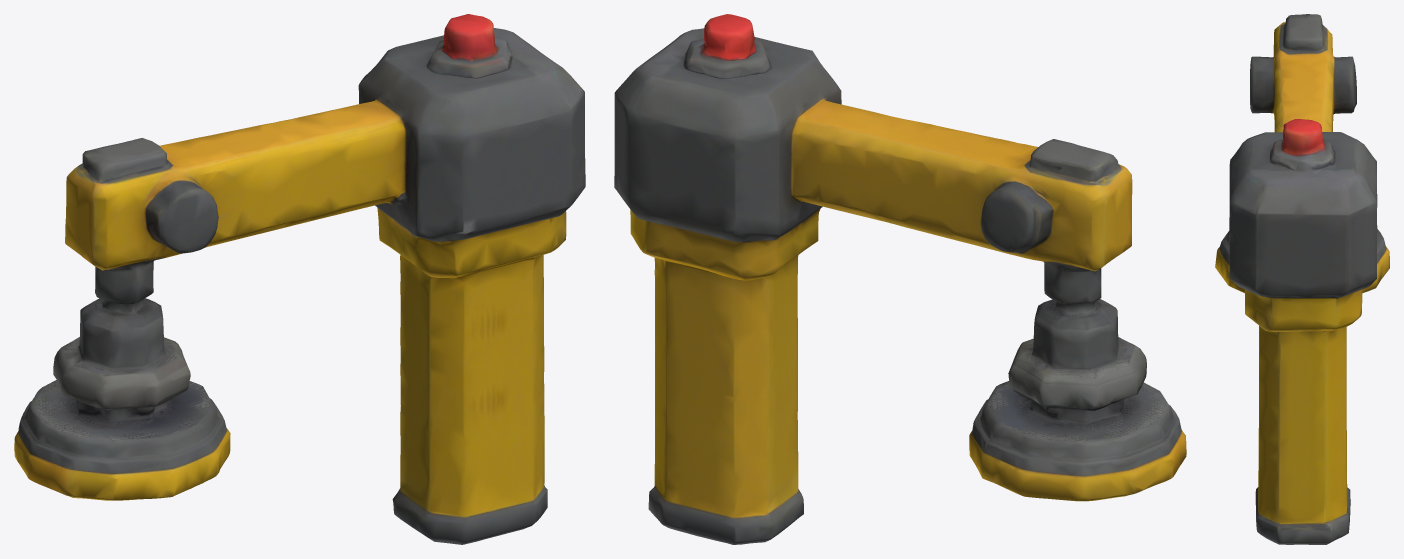
Rendered from Meshy_AI_Yellow_Push_Button_Ar_0423081805_texture.fbx.
3 views of the same model, side by side, from view 1: azimuth 30°, elevation 25°; view 2: azimuth 150°, elevation 25°; view 3: azimuth 270°, elevation 25° (orthographic). The views are drawn at different scales.
Parts seen in each view (by area): view 1: Mesh_0; view 2: Mesh_0; view 3: Mesh_0.
Part boxes in pixels (<box>): Mesh_0: <box>14,14,585,544</box>; Mesh_0: <box>614,14,1186,544</box>; Mesh_0: <box>1215,14,1389,544</box>.
Size of the model in its own units: 200 by 179 by 71.4.
Materials: 1 (1 with a texture image).
